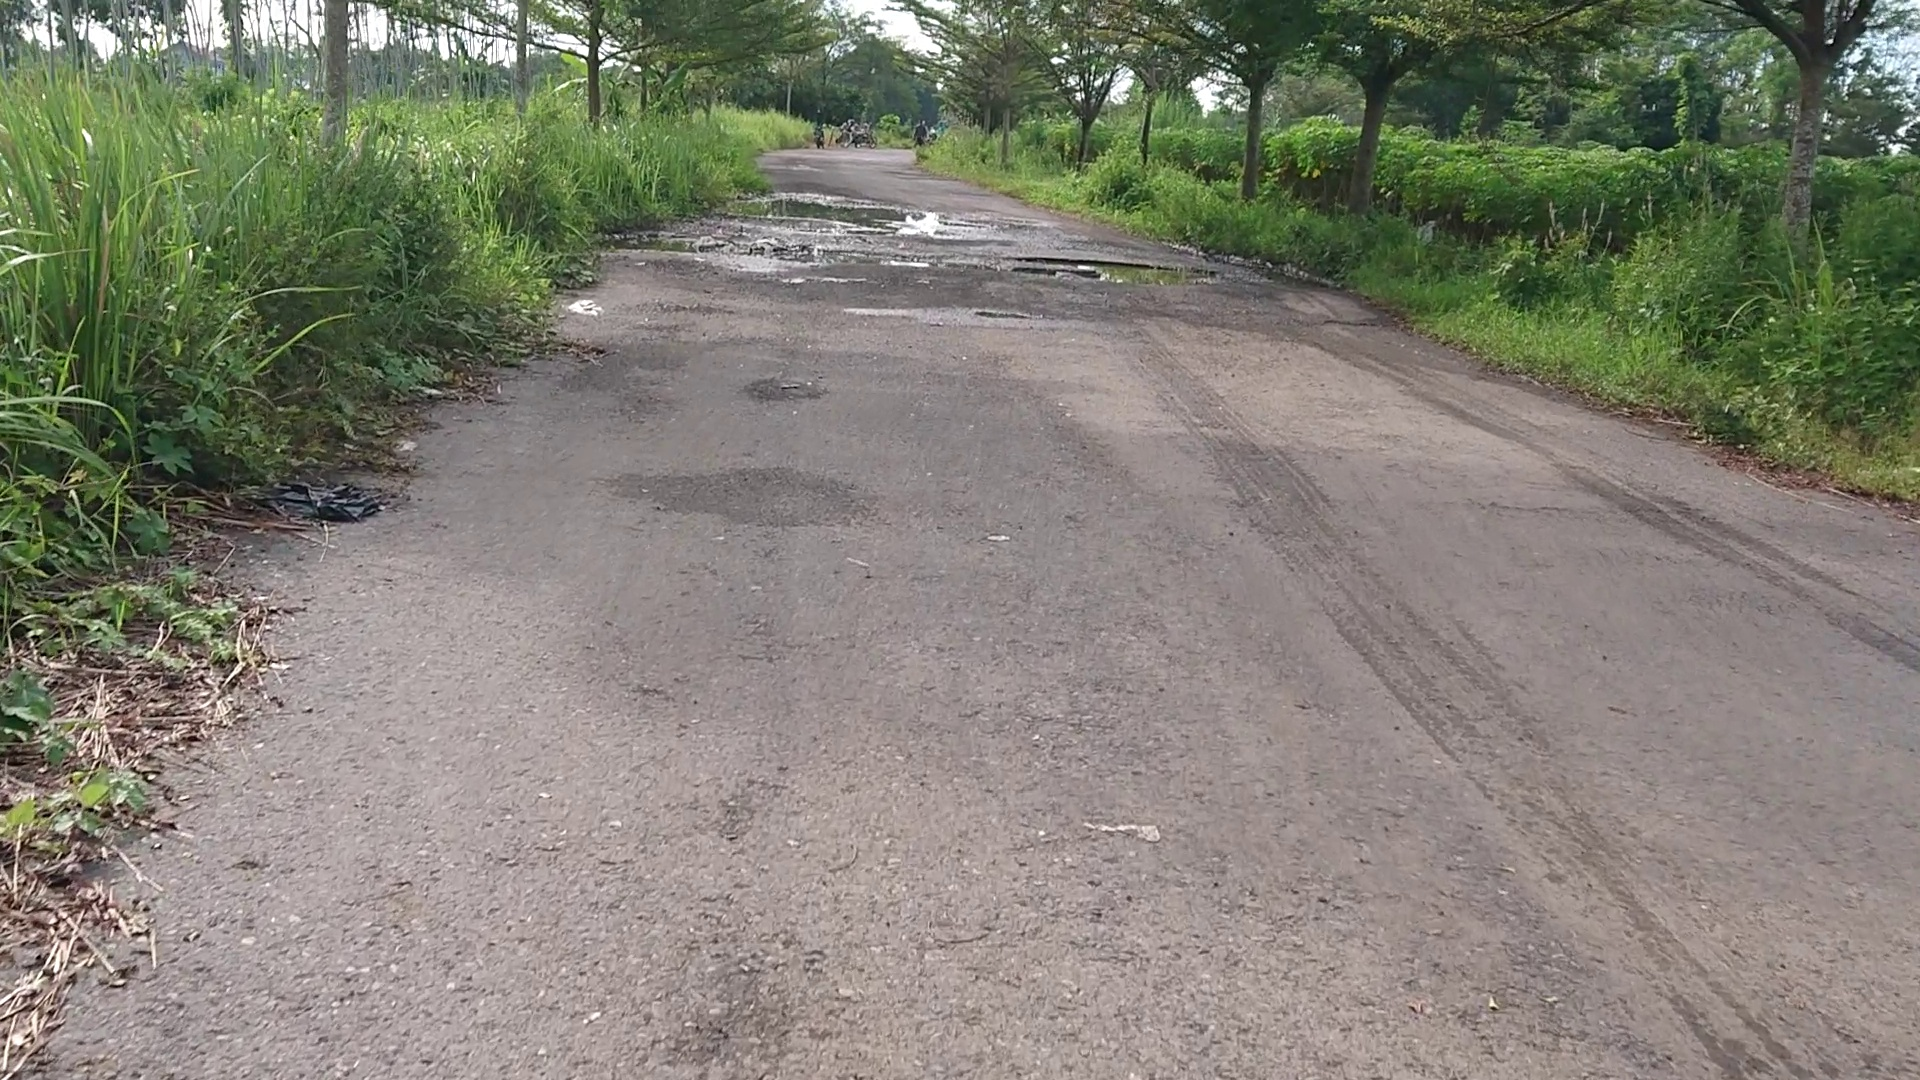Berlubang: (615, 167, 1245, 323)
